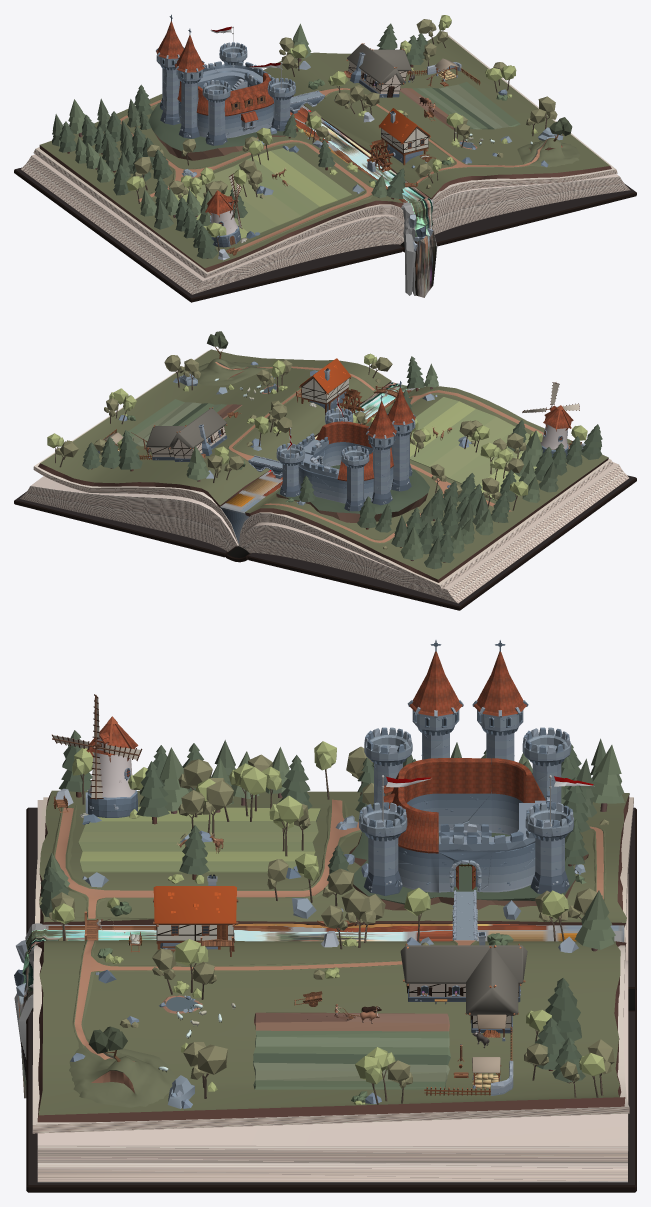
File: TEST7WithRiver.fbx
3 renders of one model, top to bottom at view 1: azimuth 30°, elevation 25°; view 2: azimuth 150°, elevation 25°; view 3: azimuth 270°, elevation 25°, orthographic. The views are drawn at different scales.
Parts seen in each view (by area): view 1: Scene, Waterfall4, Mill-water-wheel; view 2: Scene, Waterfall4; view 3: Scene, Waterfall4, Mill-wind-wheel.
Part boxes in pixels (<box>): Scene: <box>14,14,636,302</box>; Waterfall4: <box>290,105,437,297</box>; Mill-water-wheel: <box>367,139,393,171</box>; Scene: <box>14,331,636,610</box>; Waterfall4: <box>220,382,415,543</box>; Scene: <box>14,640,636,1192</box>; Waterfall4: <box>14,923,624,1098</box>; Mill-wind-wheel: <box>51,694,142,799</box>.
Bounding box in the file's own units: 10307 × 4641 × 7232.
